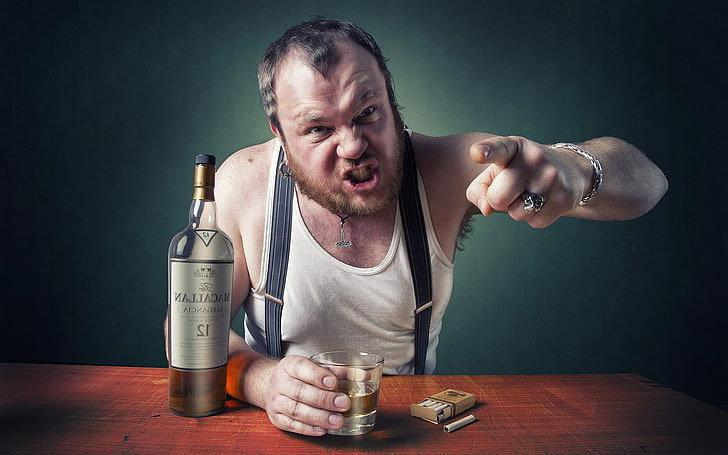Drunk: (282, 58, 401, 211)
